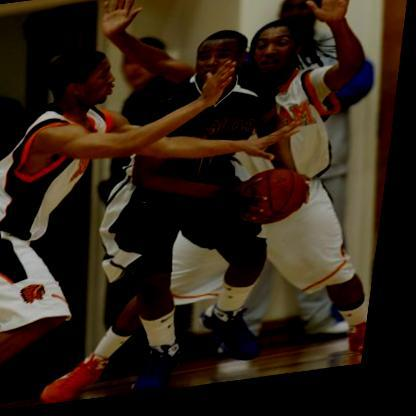basketball: (239, 169, 319, 239)
